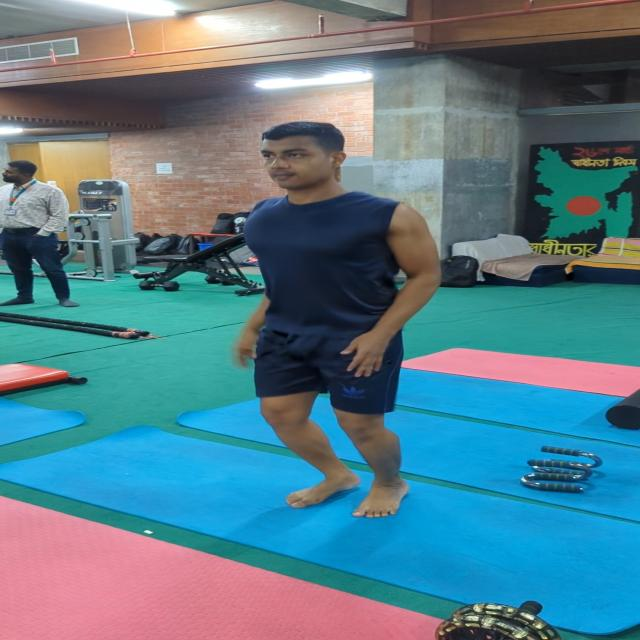Normal_JumpingJacks: (162, 99, 523, 530)
